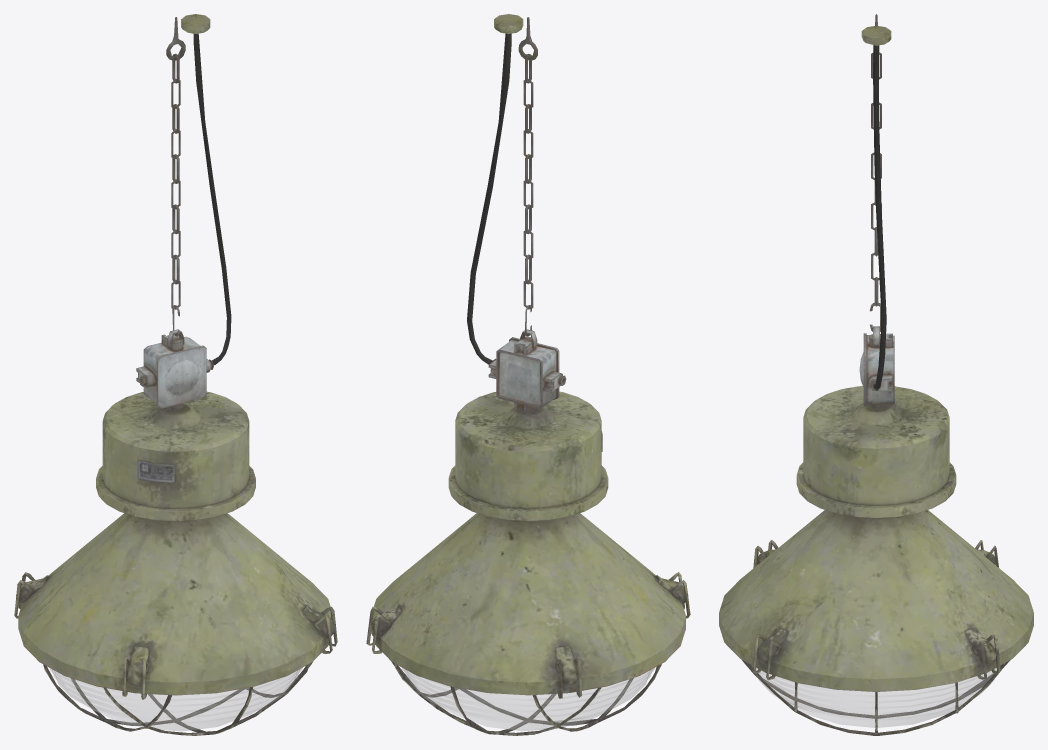
Rendered from hanging_industrial_lamp.glb.
The picture shows the model from 3 angles, left to right: view 1: azimuth 30°, elevation 25°; view 2: azimuth 150°, elevation 25°; view 3: azimuth 270°, elevation 25°; orthographic projection.
Visible parts, largest first — view 1: hanging_industrial_lamp; view 2: hanging_industrial_lamp; view 3: hanging_industrial_lamp.
Part boxes in pixels (x1=…): hanging_industrial_lamp: x1=14, y1=14, x2=337, y2=735; hanging_industrial_lamp: x1=366, y1=14, x2=690, y2=735; hanging_industrial_lamp: x1=719, y1=14, x2=1033, y2=735.
Size of the model in its own units: 0.5497 by 1.36 by 0.5497.
Materials: 2 (1 with a texture image).
